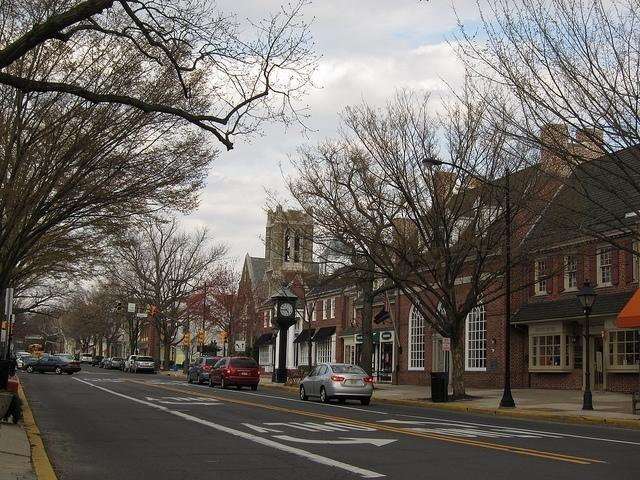car: (299, 362, 373, 406), (209, 356, 261, 390), (22, 356, 81, 375), (187, 357, 221, 385), (131, 356, 155, 374), (16, 356, 38, 370), (128, 354, 138, 372), (79, 352, 93, 364), (109, 358, 122, 370), (91, 355, 104, 367), (100, 358, 112, 369), (122, 356, 130, 372)
